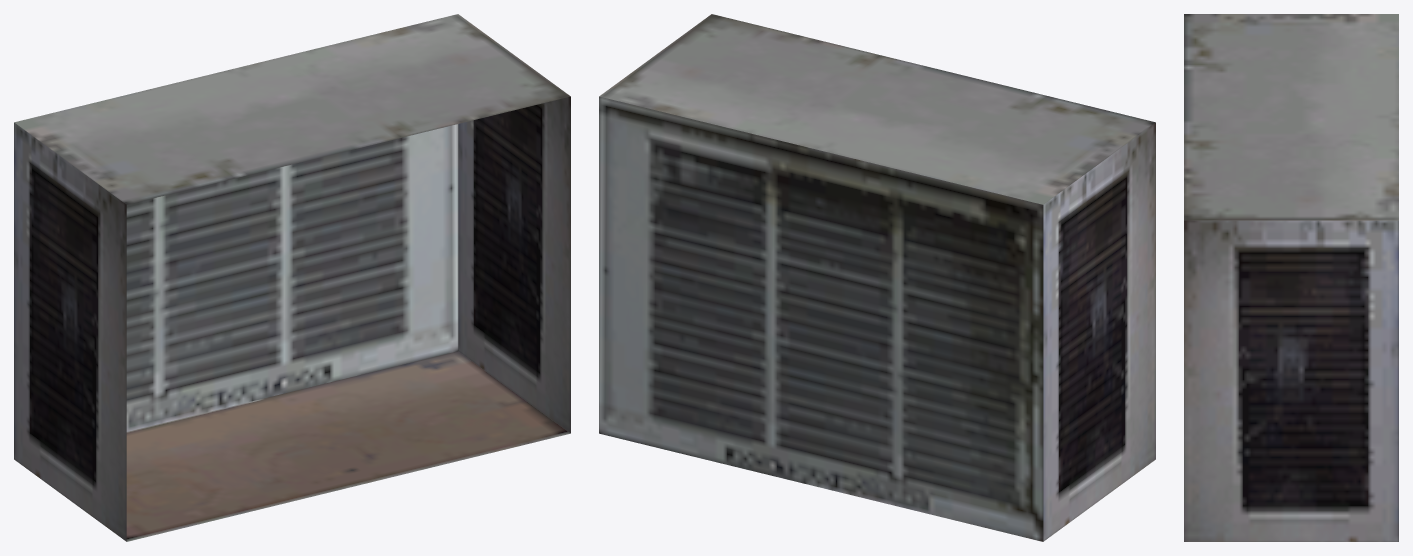
The model's file is ac_unit_var_a.fbx.
3 views of the same model, side by side, from view 1: azimuth 30°, elevation 25°; view 2: azimuth 150°, elevation 25°; view 3: azimuth 270°, elevation 25° (orthographic). The views are drawn at different scales.
Parts seen in each view (by area): view 1: mesh_0; view 2: mesh_0; view 3: mesh_0.
Part boxes in pixels (x1,y1,x2,y2): mesh_0: [14, 14, 570, 541]; mesh_0: [599, 14, 1155, 541]; mesh_0: [1184, 14, 1398, 541].
Bounding box in the file's own units: 91 × 66 × 40.
1 material, 1 textured.
